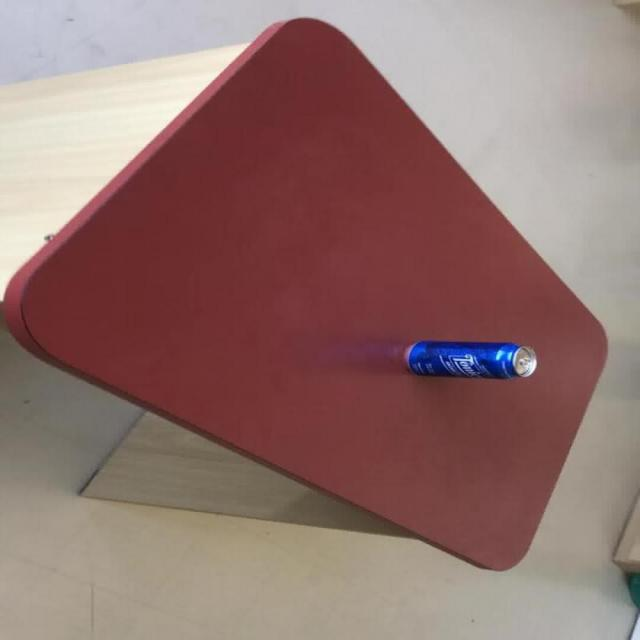Tonic: (403, 339, 537, 379)
